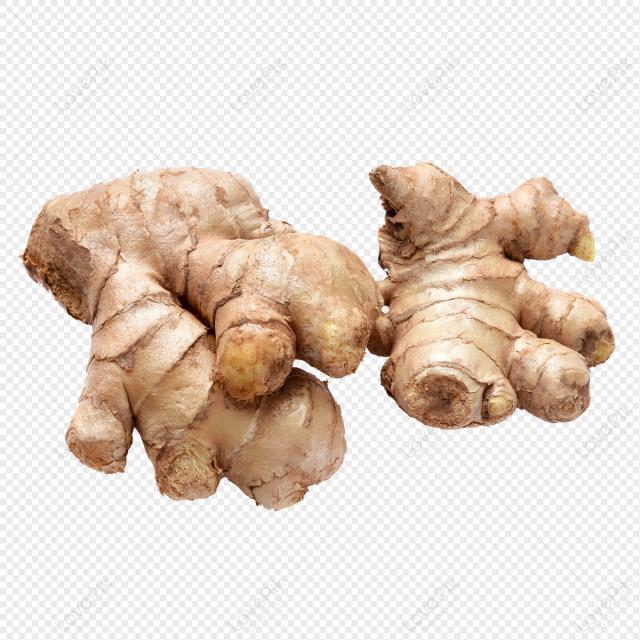ginger: (15, 156, 385, 503), (22, 150, 366, 500), (371, 132, 617, 426)
